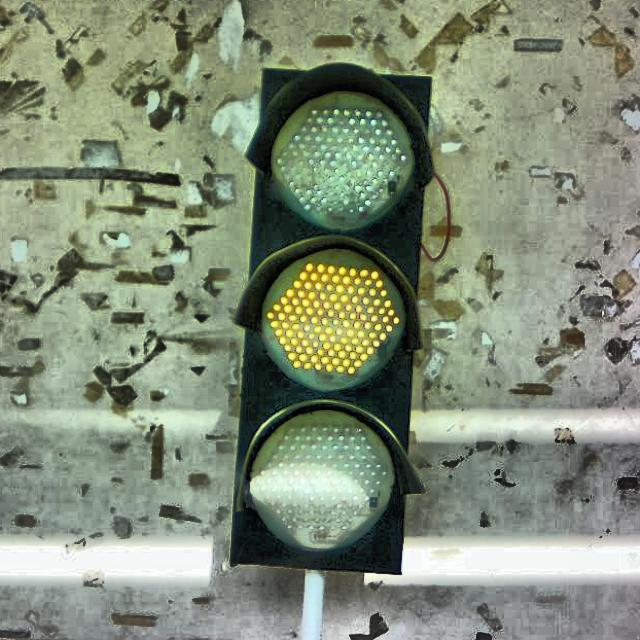yellow: (230, 69, 435, 571)
